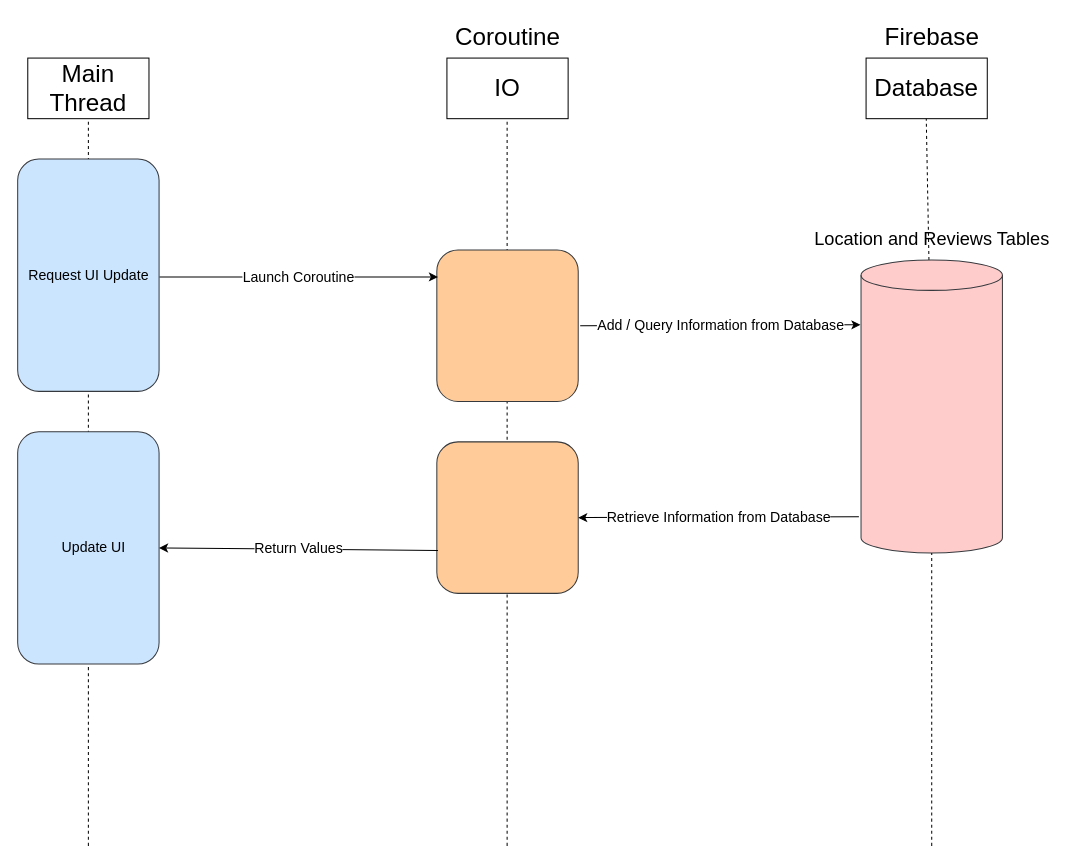
Image size: 1081x865. Some labels were removed from this diagram. The box of each missing label's shape, as (x1, y1, x2, y2) in pixels:
Add New Row / Retrieve Information from Row: (860, 259, 1002, 553)
Process / Sort / Update Information: (436, 441, 578, 593)
Request Database: (436, 249, 578, 401)
